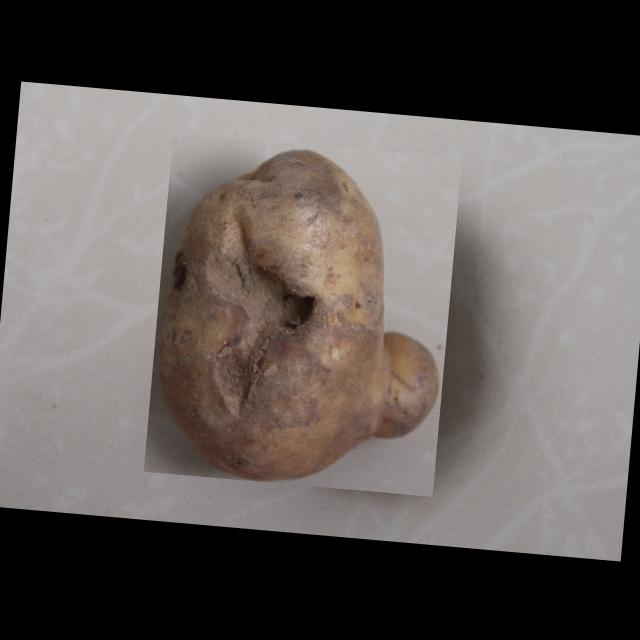Diseased-fungal potato: (142, 132, 461, 496)
